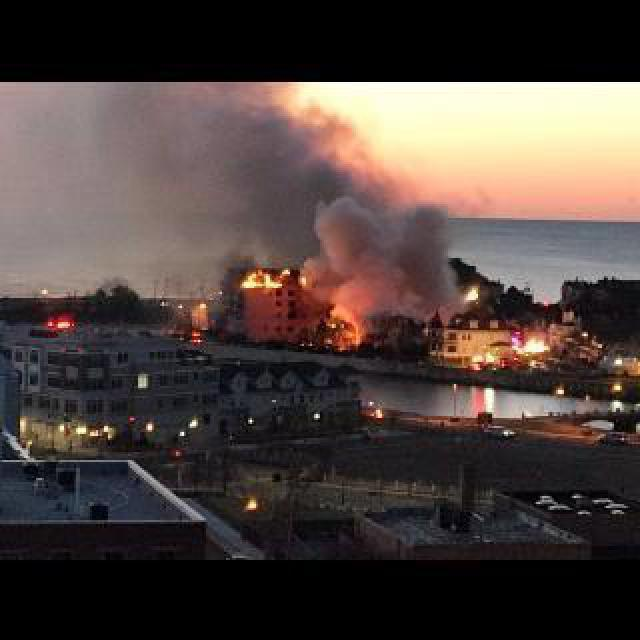Fire: (230, 254, 306, 292), (508, 336, 552, 354), (466, 284, 484, 300)
Smoke: (4, 82, 394, 260), (298, 184, 458, 316)
